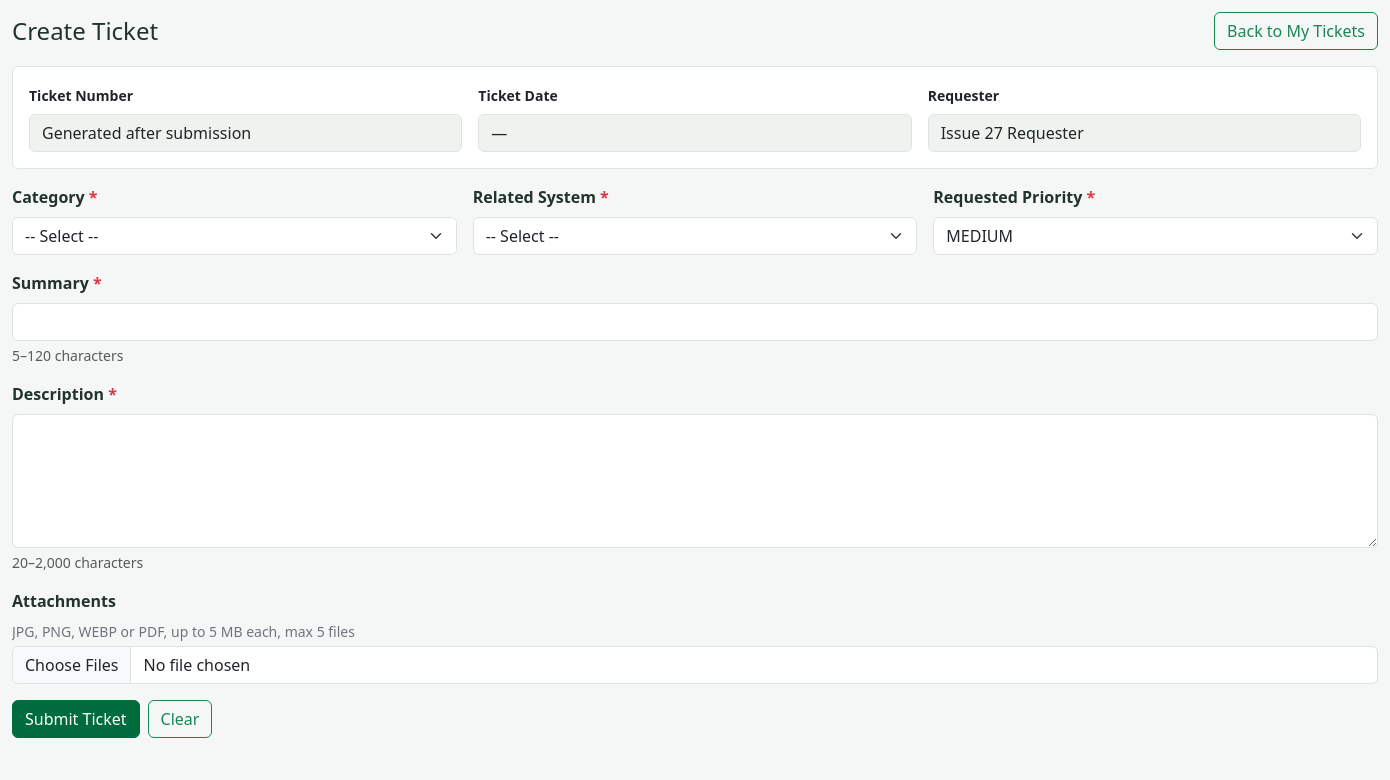
Test: CreateTicket (Lab 2 Issue 8A) › UI-01 / AC-02 shows summary field error for short input and does not submit
Select "Hardware" in the dropdown labelled "Category *" at {"x": 234, "y": 236}, box [12,217,457,255]
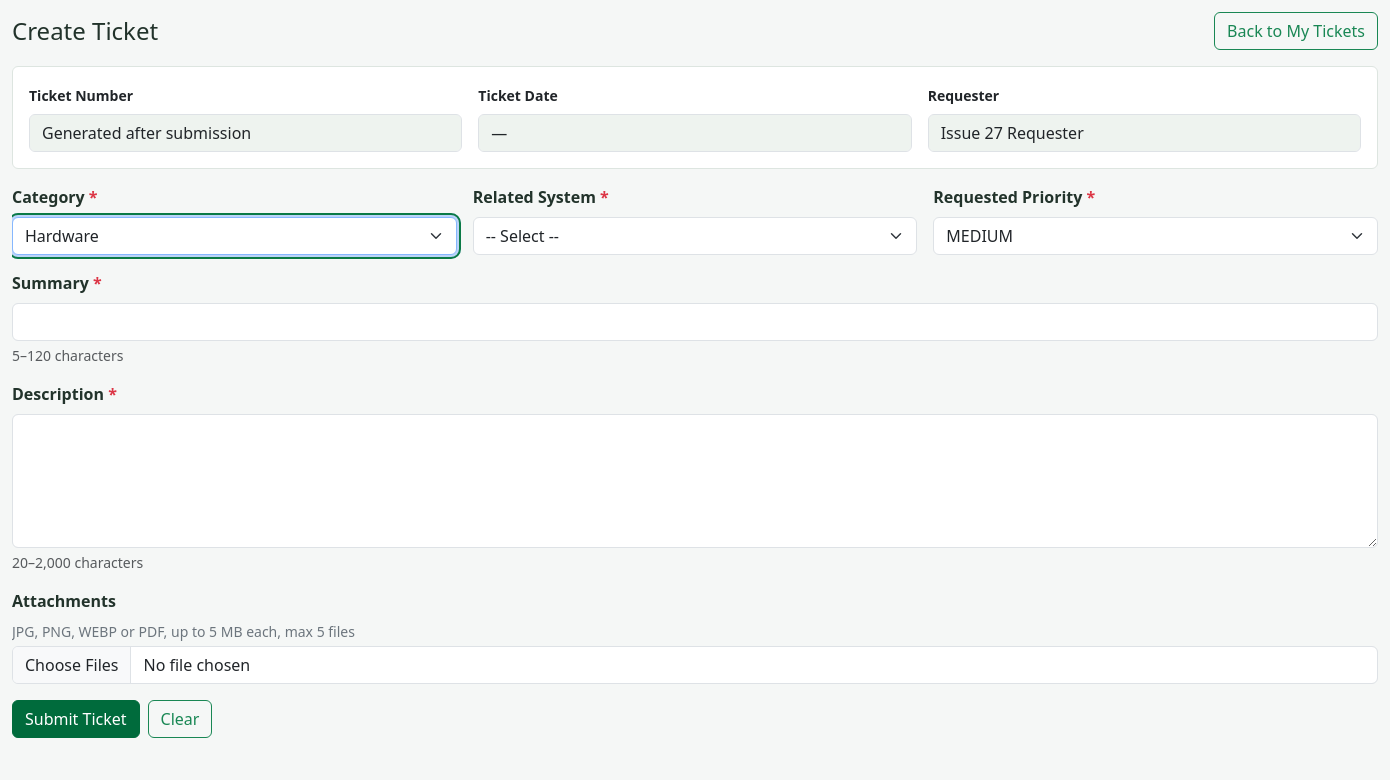
Select "Email" in the dropdown labelled "Related System *" at {"x": 695, "y": 236}, box [473,217,917,255]
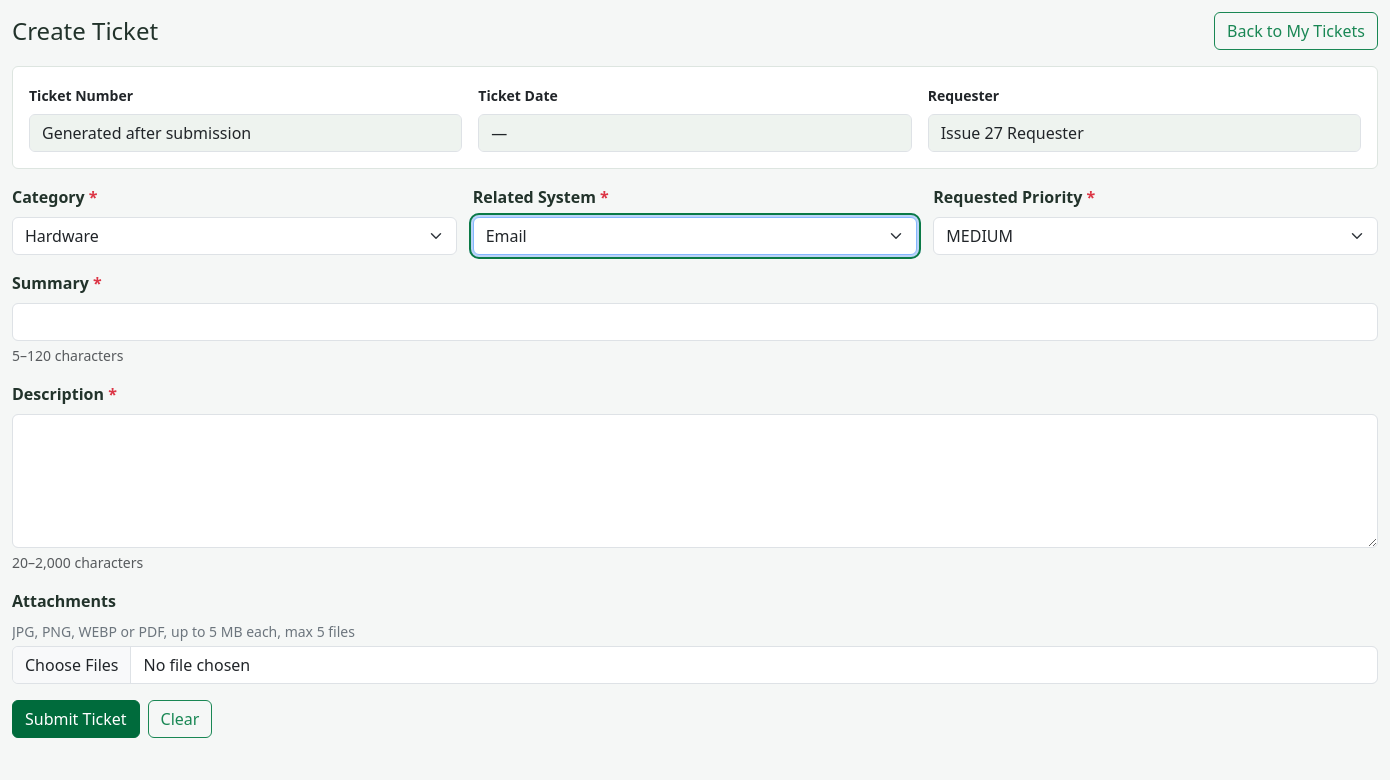
Type "abcd" into the field labelled "Summary *" at {"x": 695, "y": 322}, box [12,303,1378,341]
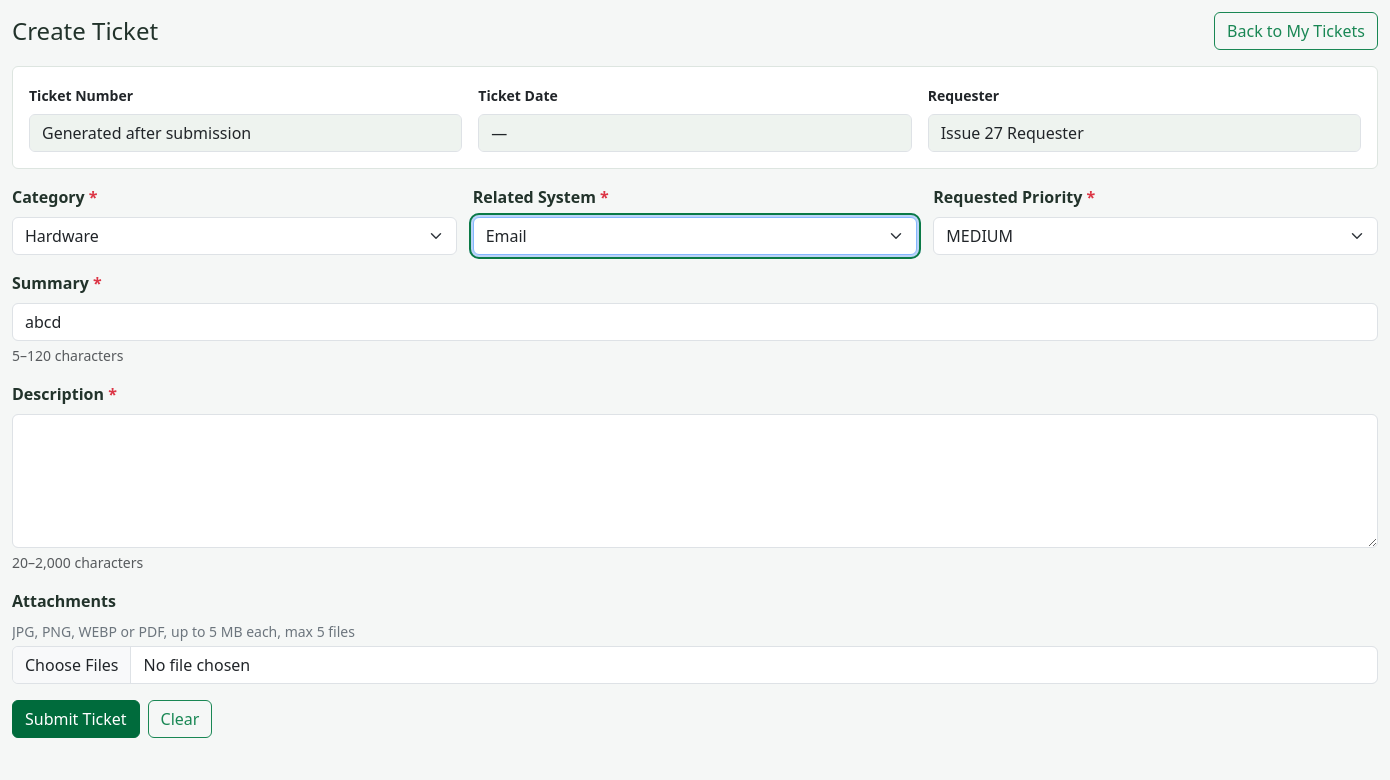
Type "This description is definitely long enough." into the text box labelled "Description *" at {"x": 695, "y": 481}, box [12,414,1378,548]
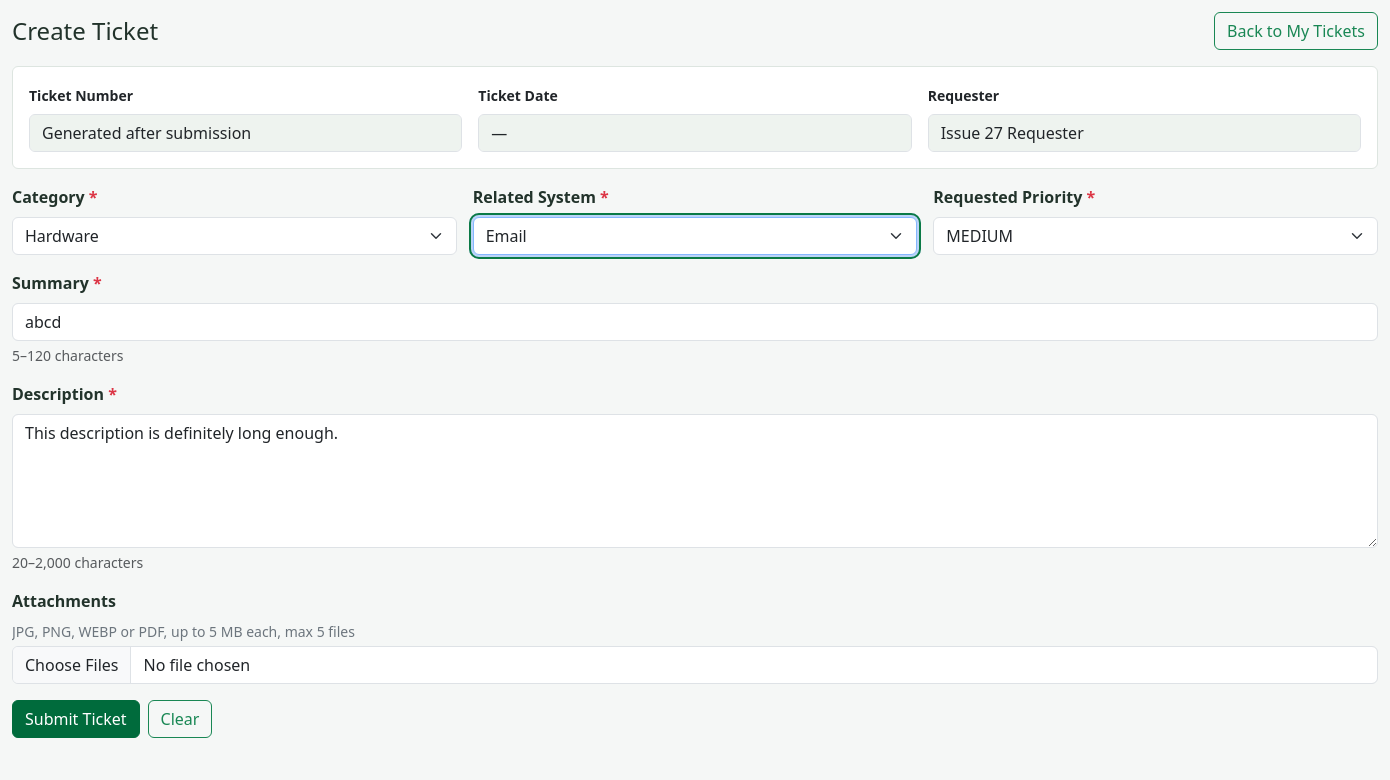
Click the button "Submit Ticket" at {"x": 76, "y": 719}, box [12,700,140,738]
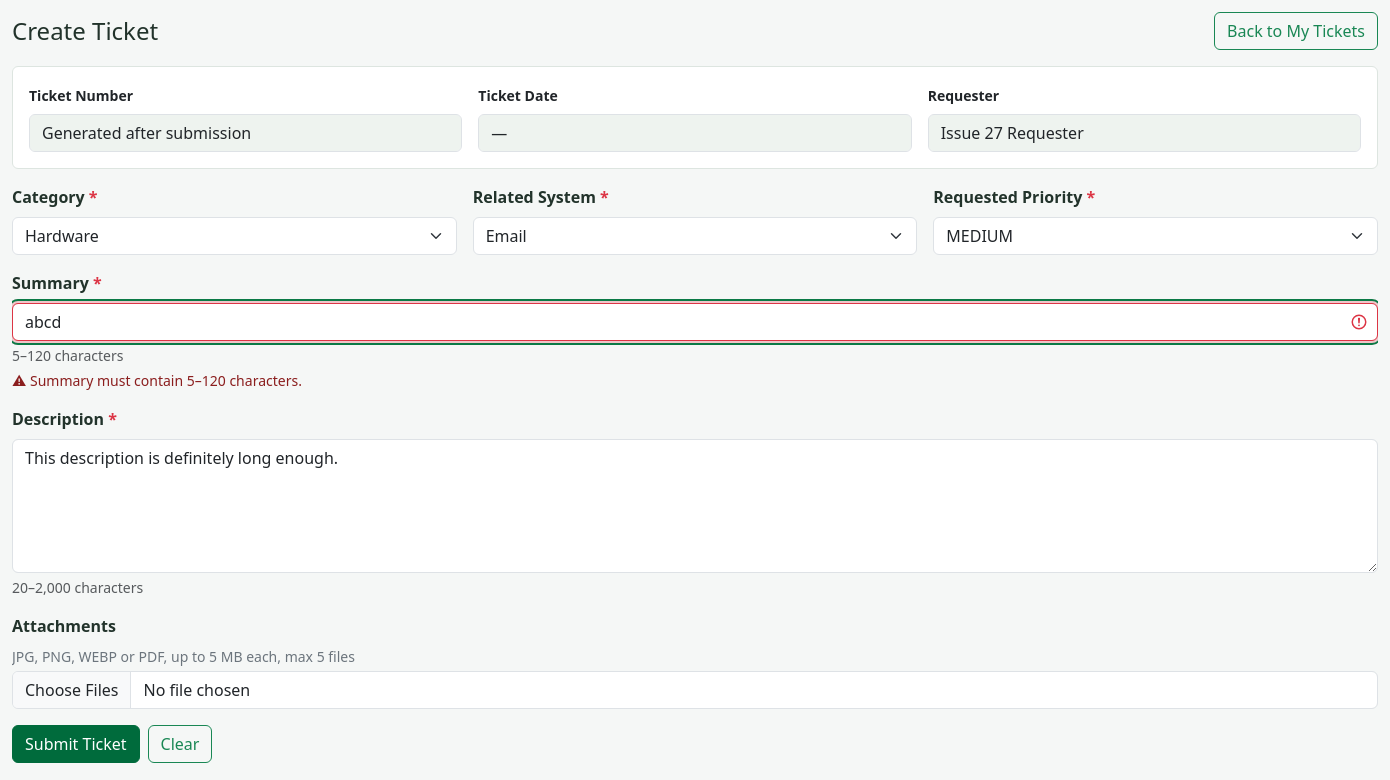
Expected: the text "Summary must contain 5–120 characters." is shown, [30,371,302,390]
